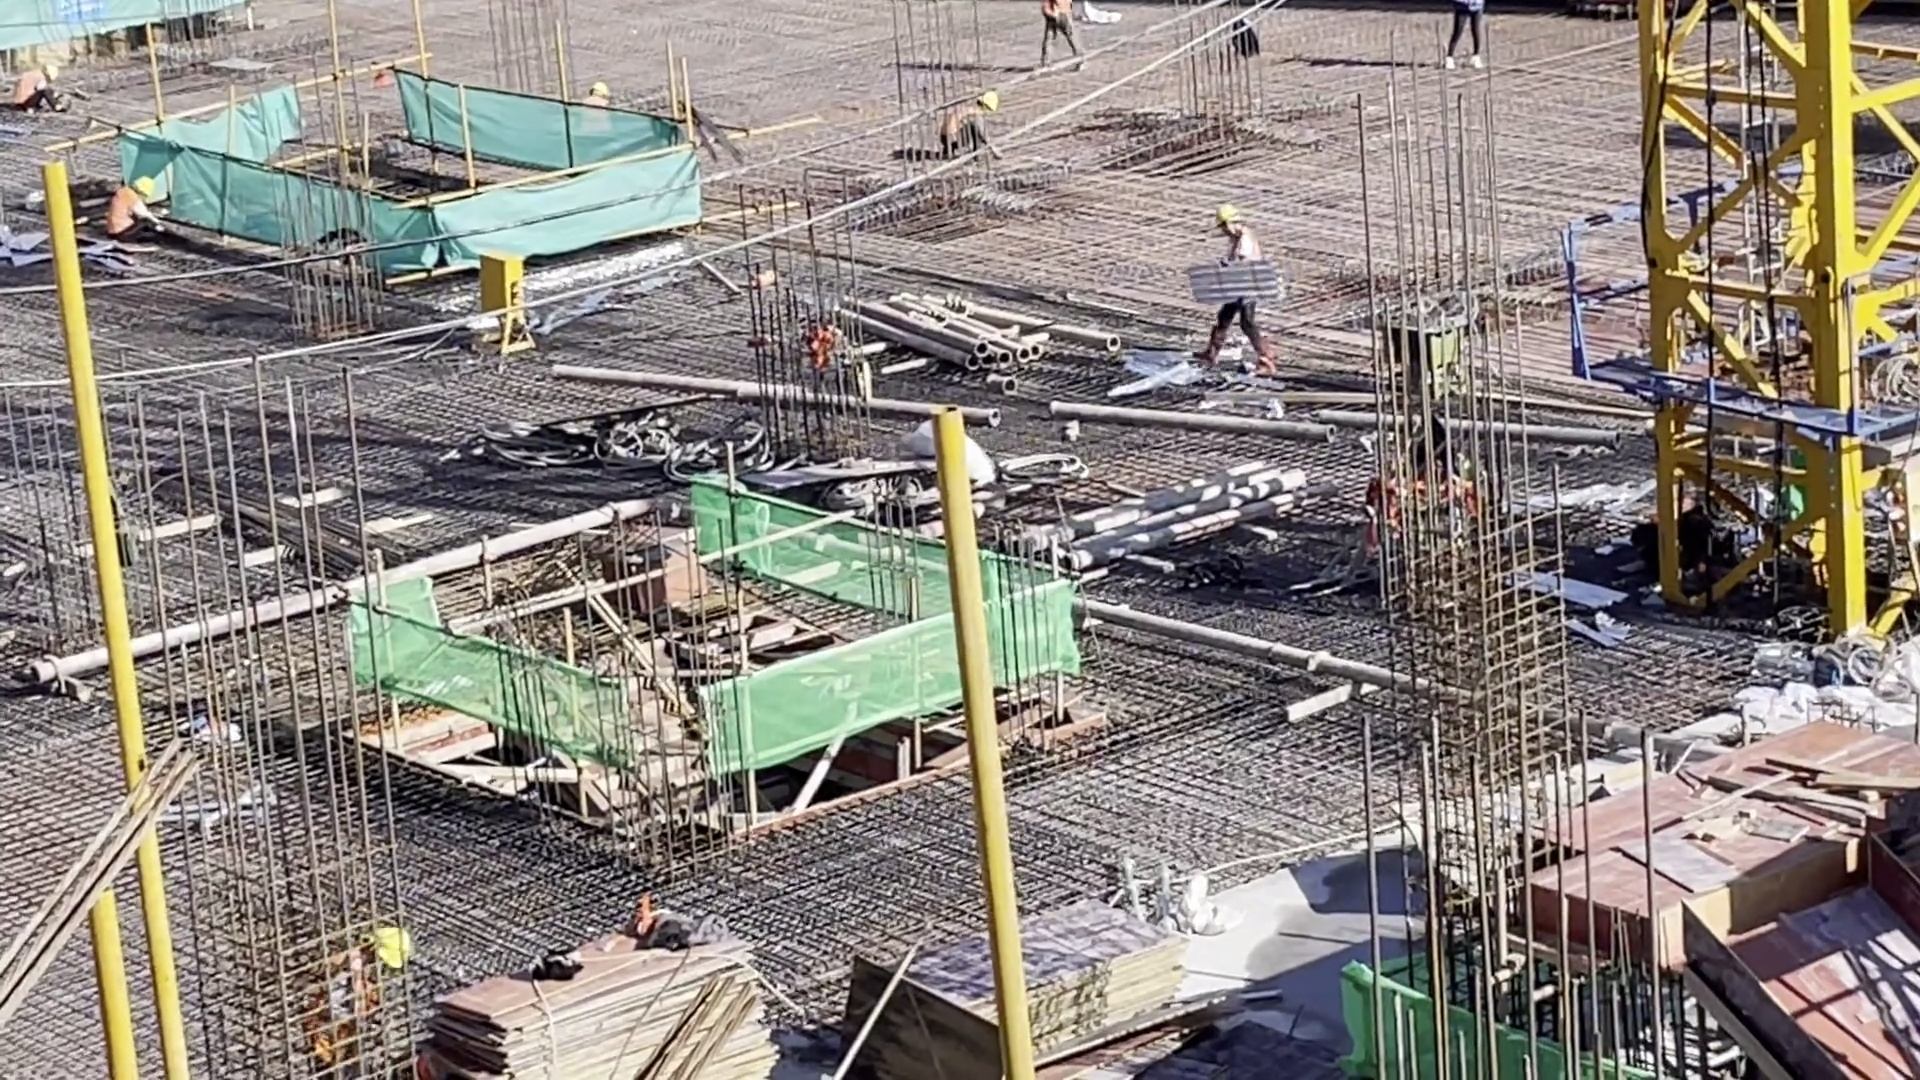helmet: (370, 923, 418, 971), (1204, 200, 1249, 231), (127, 171, 166, 204), (978, 86, 1006, 120), (591, 75, 615, 98)
person: (1188, 188, 1282, 385), (306, 927, 429, 1065), (96, 156, 187, 254), (1022, 1, 1101, 67), (7, 59, 74, 123), (1438, 1, 1491, 78), (951, 87, 1002, 166), (574, 60, 628, 123)
vest: (103, 184, 150, 238), (1050, 1, 1081, 27)
